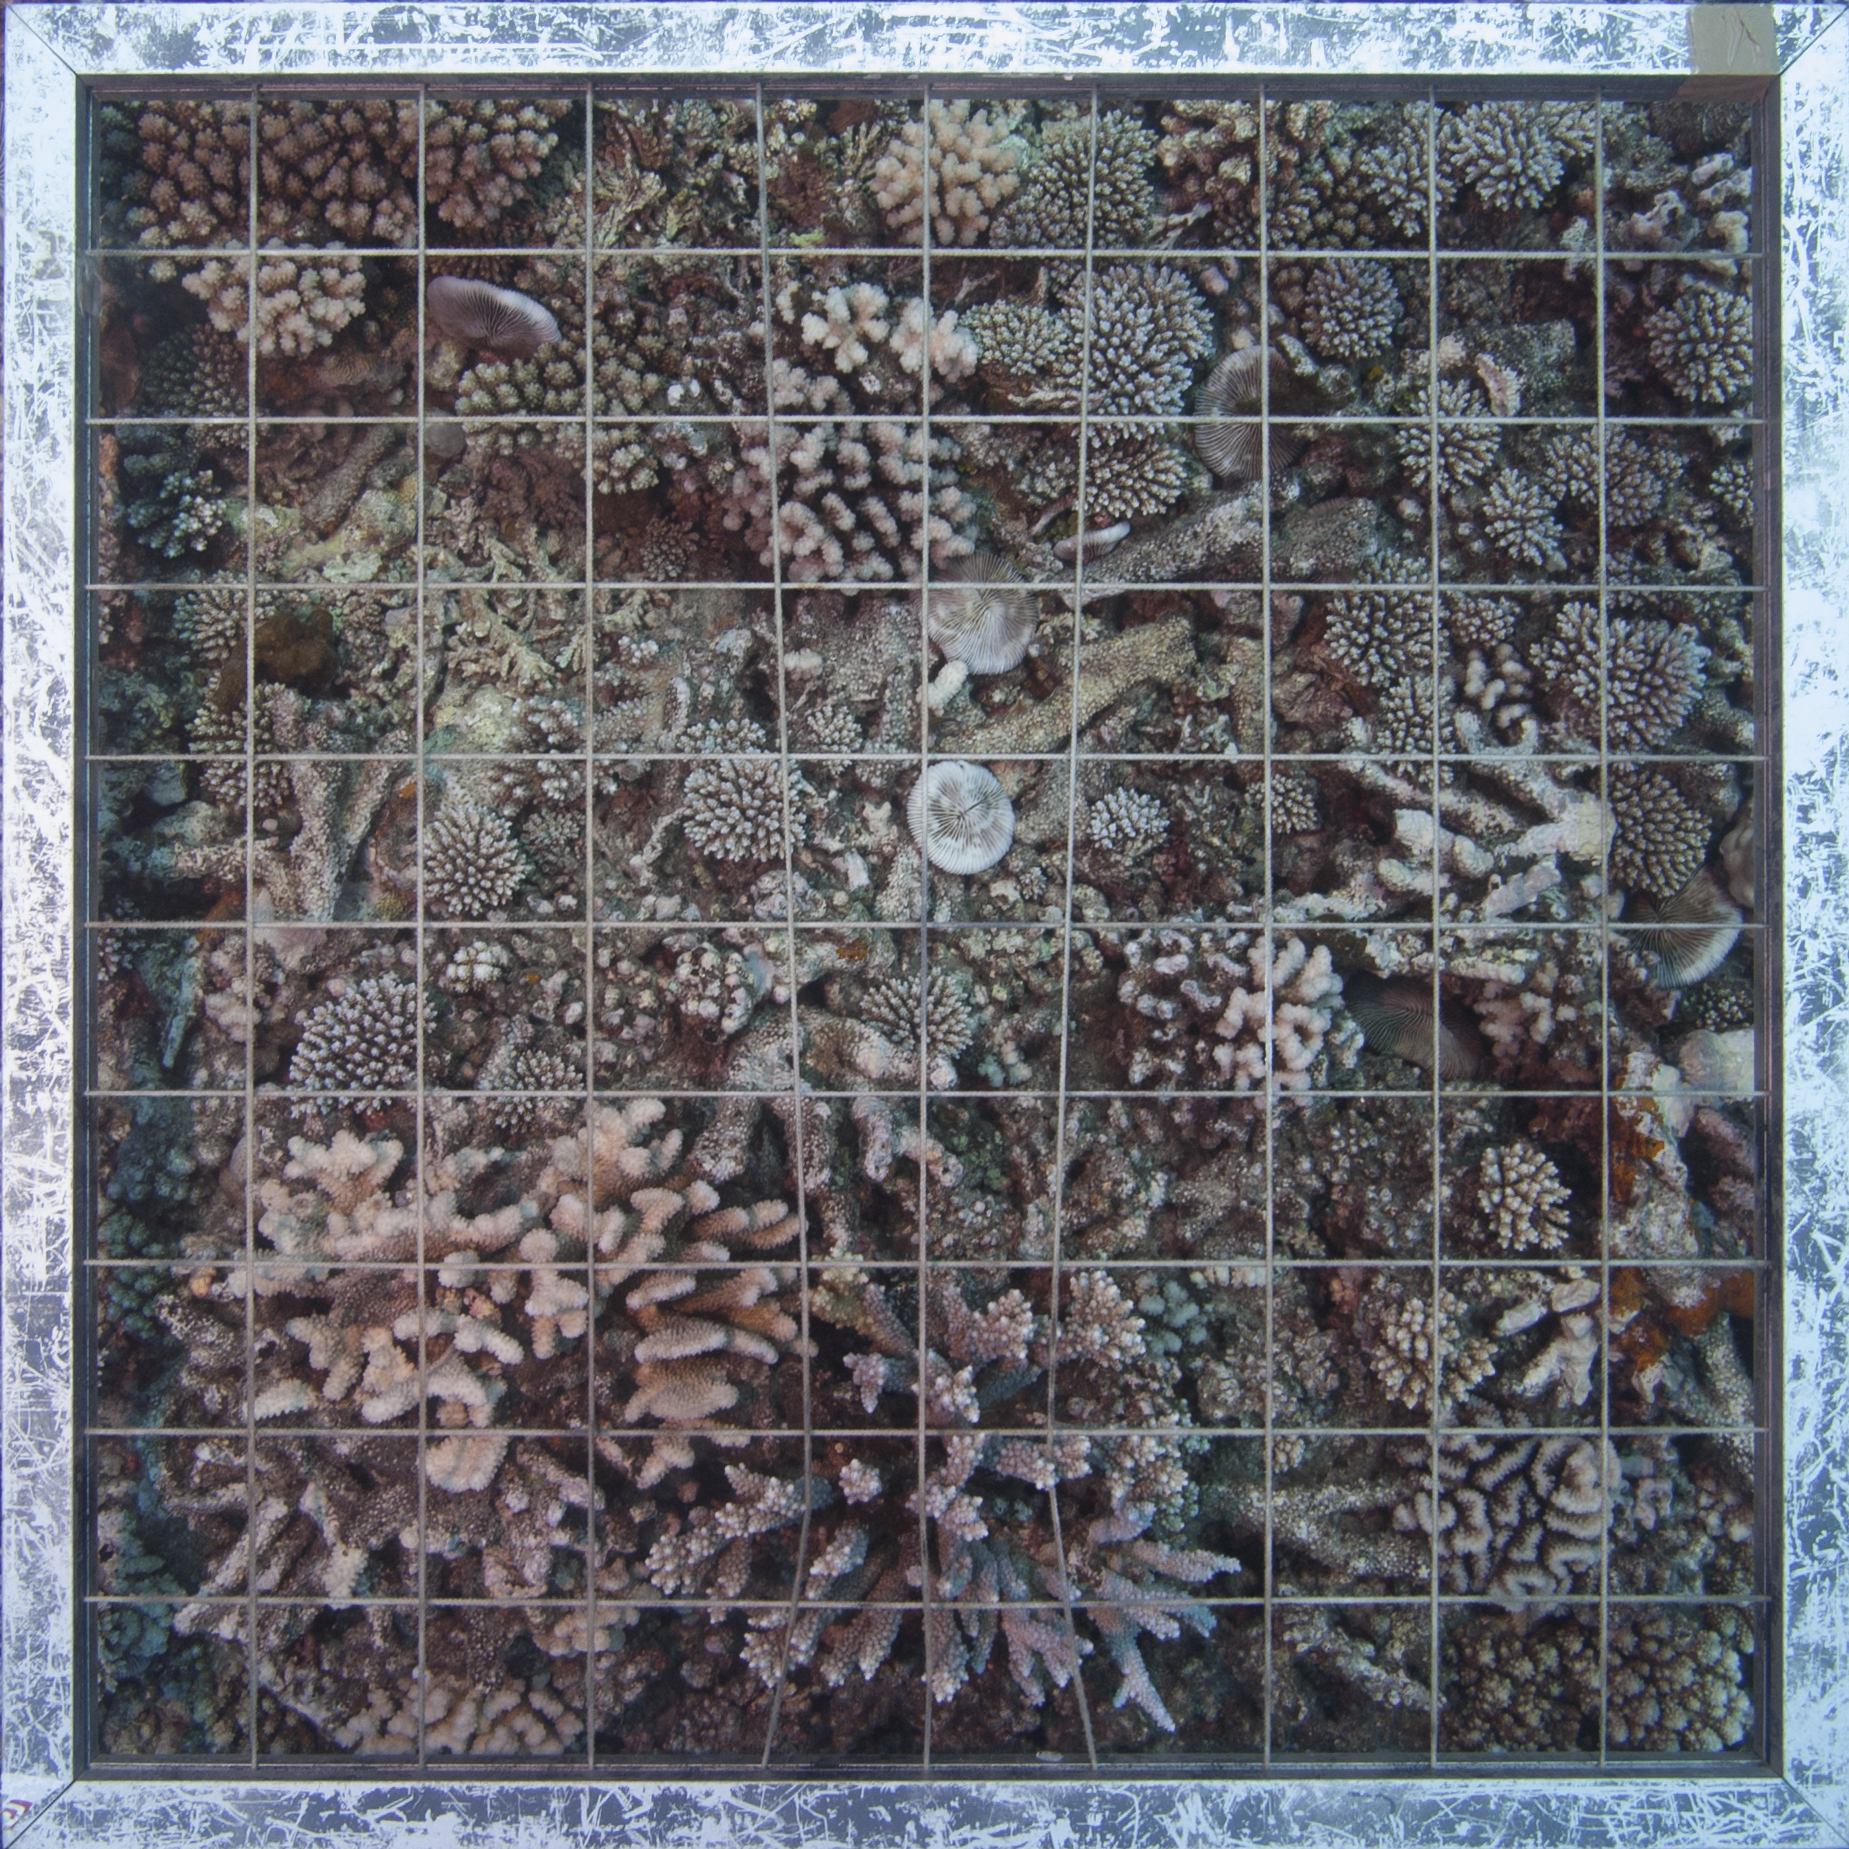alive: (428, 799, 523, 913)
